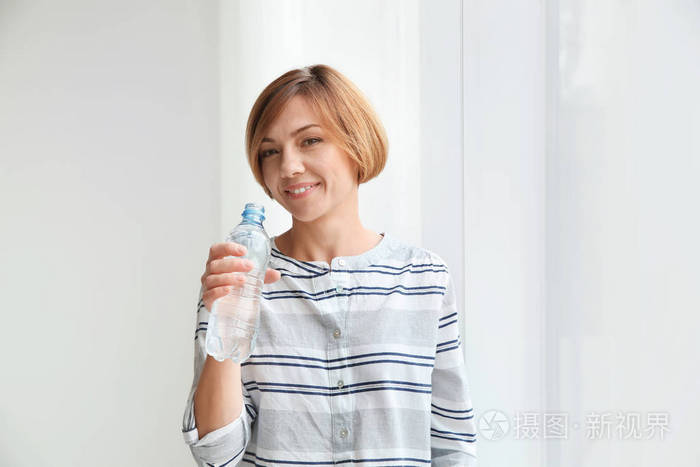no-phone: (196, 238, 283, 329)
